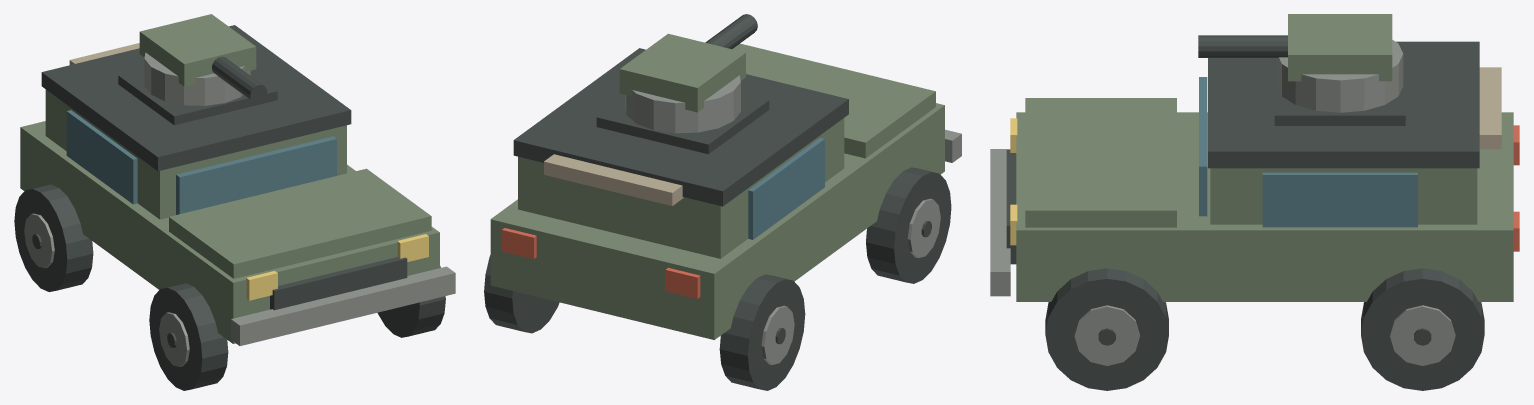
File: modern-tactical-4x4.gltf
3 views of the same model, side by side, from view 1: azimuth 30°, elevation 25°; view 2: azimuth 150°, elevation 25°; view 3: azimuth 270°, elevation 25° (orthographic). The views are drawn at different scales.
Visible parts, largest first — view 1: olive, black, metal, glass, yellow, sand; view 2: olive, black, metal, glass, sand, red; view 3: olive, black, metal, glass, sand, yellow, red.
Boxes of the visible parts, x1,y1,x2,y2 form: olive: [20, 14, 439, 343]; black: [14, 25, 445, 390]; metal: [24, 52, 455, 366]; glass: [66, 110, 336, 214]; yellow: [246, 234, 428, 300]; sand: [69, 43, 139, 64]; olive: [490, 33, 944, 339]; black: [484, 14, 951, 390]; metal: [625, 75, 961, 364]; glass: [748, 137, 824, 239]; sand: [544, 154, 683, 205]; red: [501, 228, 700, 298]; olive: [1016, 14, 1513, 301]; black: [1006, 35, 1484, 390]; metal: [990, 40, 1455, 365]; glass: [1199, 77, 1417, 227]; sand: [1479, 67, 1501, 149]; yellow: [1010, 118, 1017, 245]; red: [1513, 125, 1519, 251].
Bounding box in the file's own units: 2.82 × 2.61 × 4.37.
